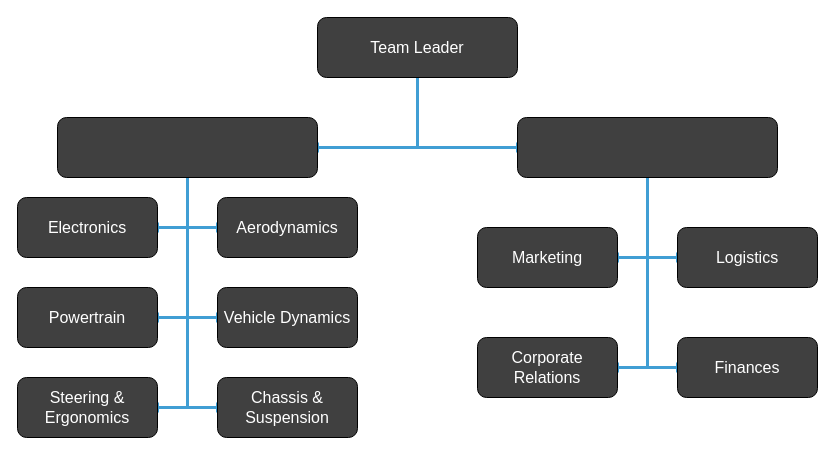
Some shapes in this 835 by 455 pixel diagram are drawn without their labels. The centre of each missing label's shape, as x and y in pixels:
Business & Strategy Director: point (647, 147)
Technical Director: point (187, 147)
